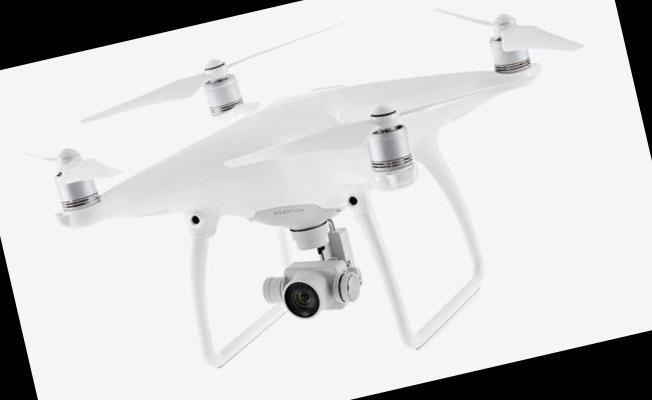drone: (7, 0, 614, 320)
